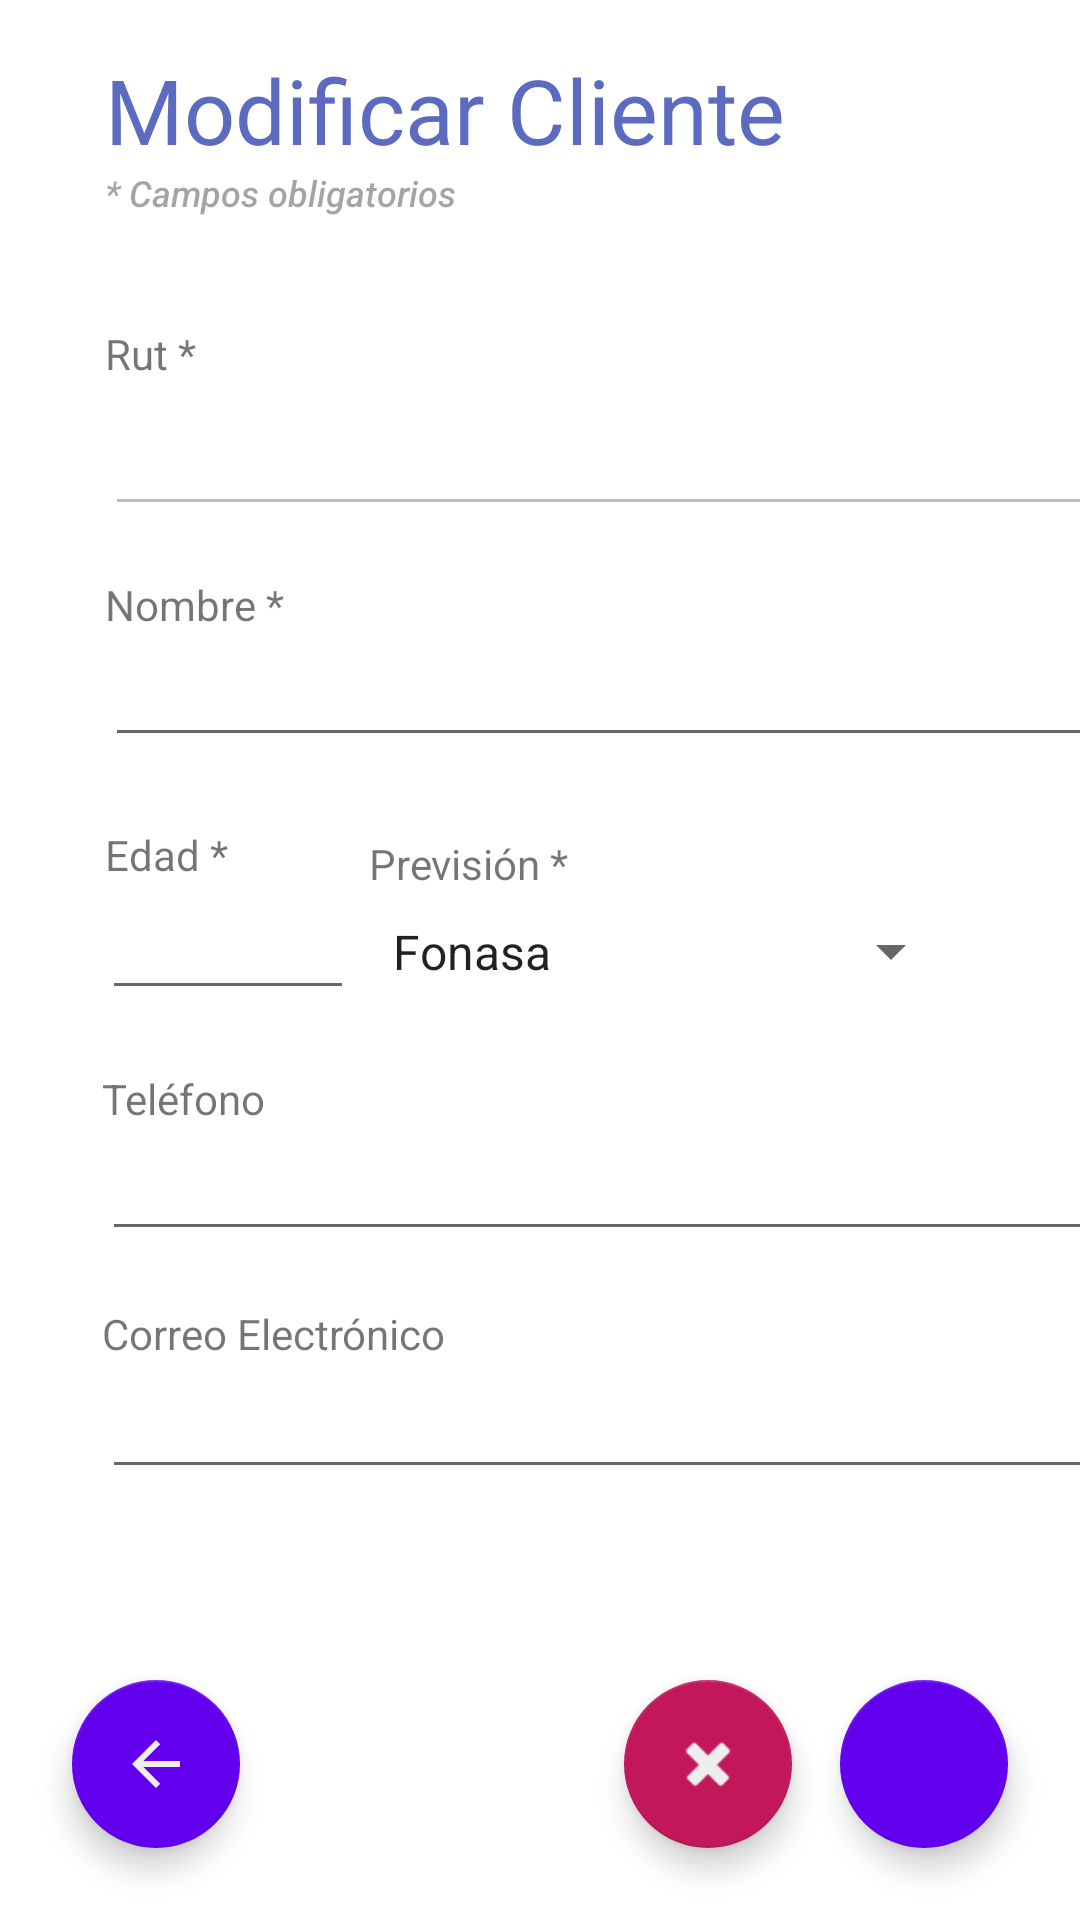

Named icons in this screenshot (1080x1920) and their centers, (x,y):
delete: (708,1764)
